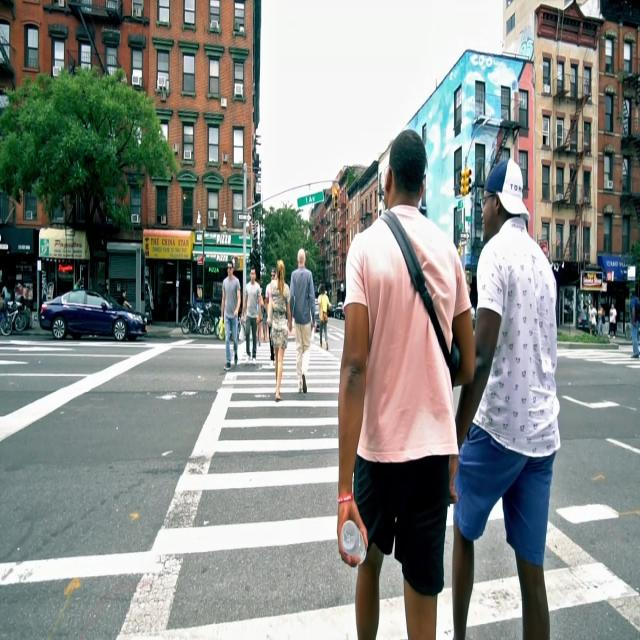Persona: (326, 119, 474, 640), (470, 134, 565, 639), (291, 245, 323, 391), (265, 258, 291, 396), (218, 255, 242, 369)
